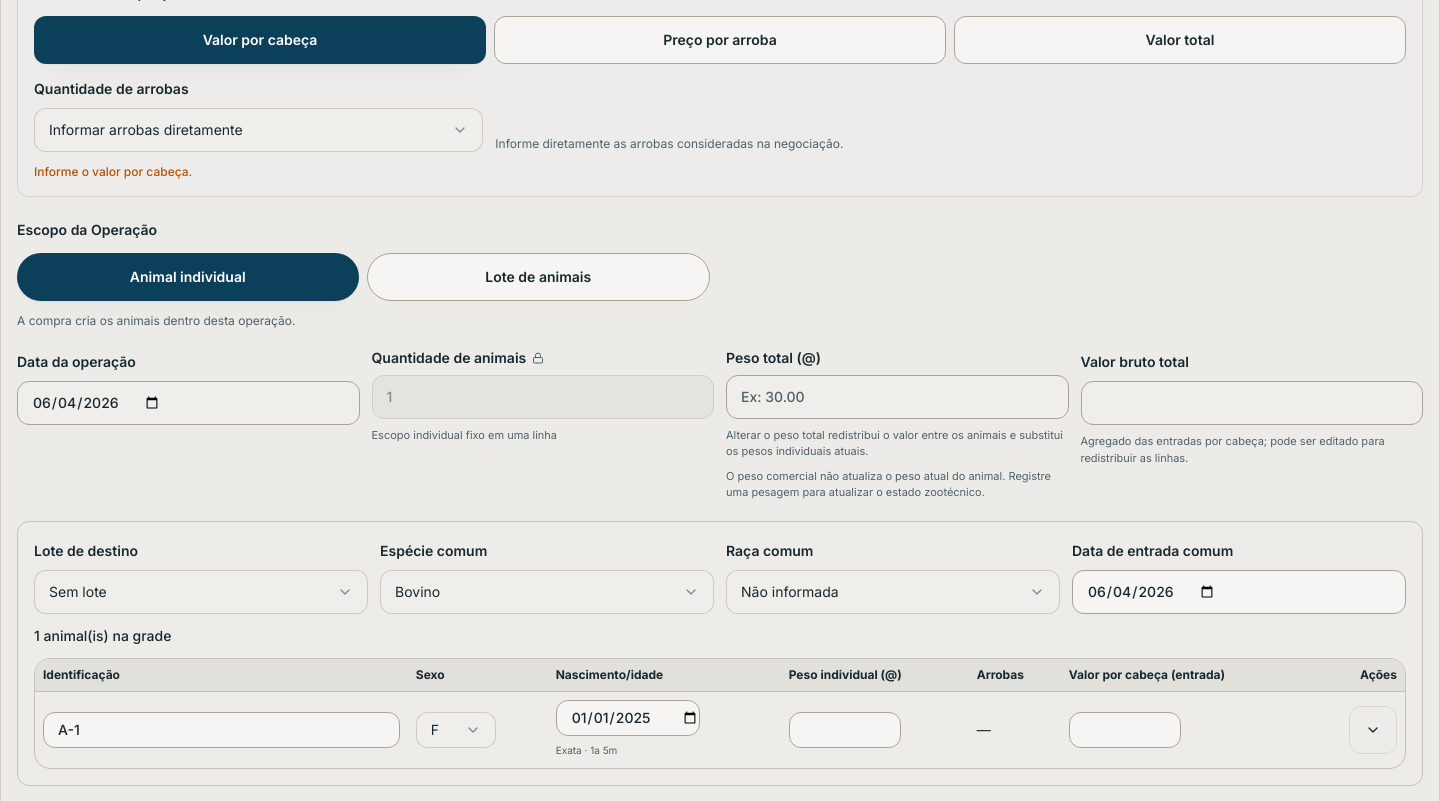
Test: RegistrarComercialSection › preserva a digitação sequencial do peso total acima de dez
(page scrolled)
Type "125" into the number field named "Peso total (@)". click: (897,396)
box: [726,374,1068,418]
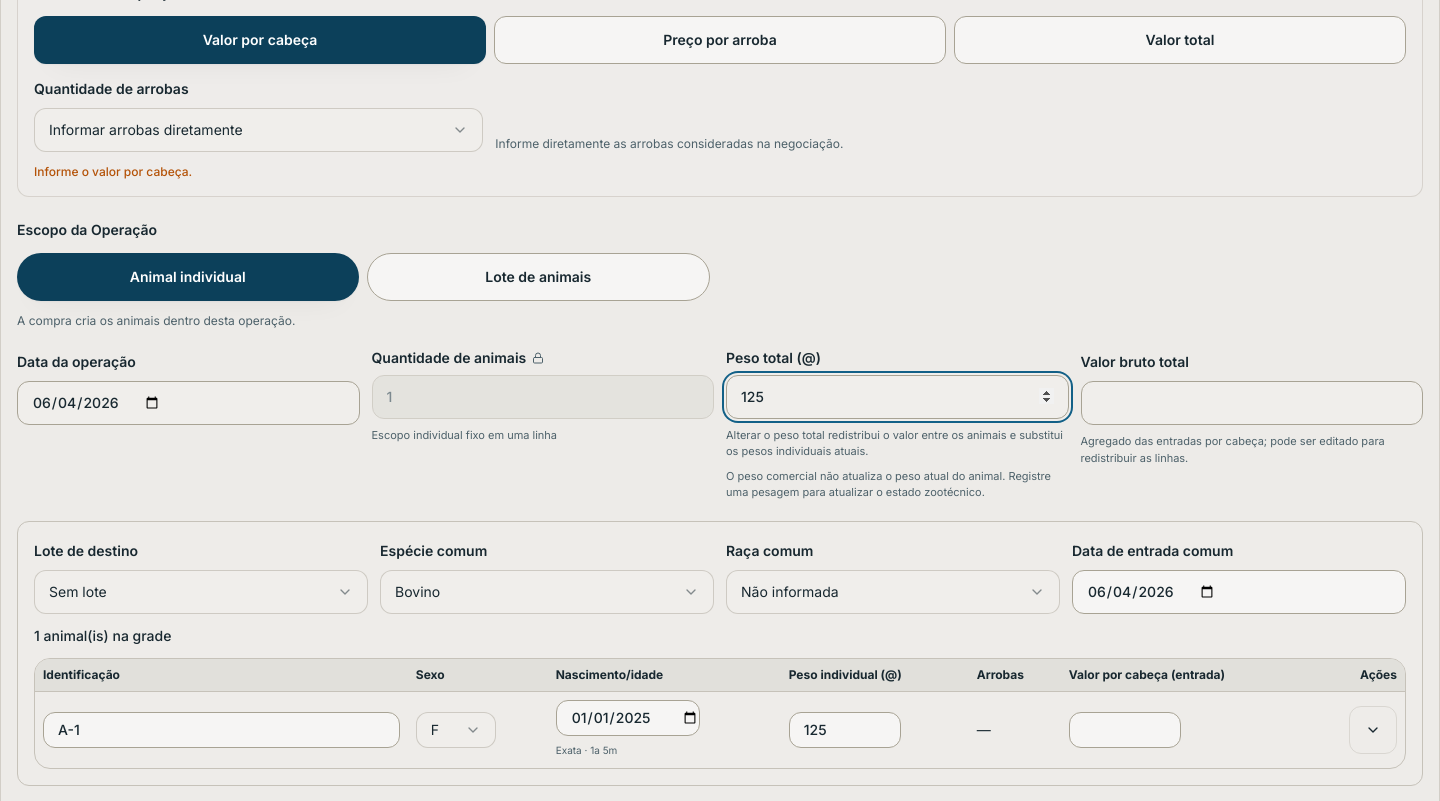
expect the number field named "Peso animal 1" holds "125": met, box [789,712,901,748]
